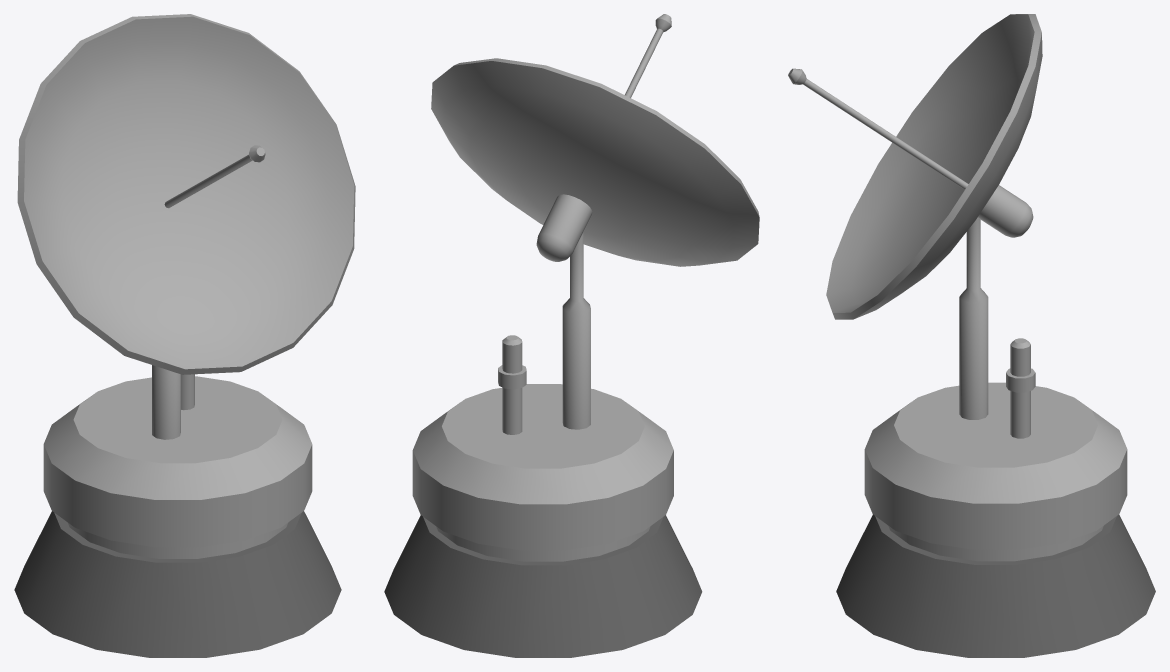
The model's file is dish.glb.
3 views of the same model, side by side, from view 1: azimuth 30°, elevation 25°; view 2: azimuth 150°, elevation 25°; view 3: azimuth 270°, elevation 25° (orthographic). The views are drawn at different scales.
Visible parts, largest first — view 1: Roof_Radar; view 2: Roof_Radar; view 3: Roof_Radar.
Part boxes in pixels (<box>): Roof_Radar: <box>14,14,355,657</box>; Roof_Radar: <box>384,14,759,657</box>; Roof_Radar: <box>788,14,1155,657</box>.
Size of the model in its own units: 1.63 by 2.71 by 1.65.
1 material, 1 textured.
